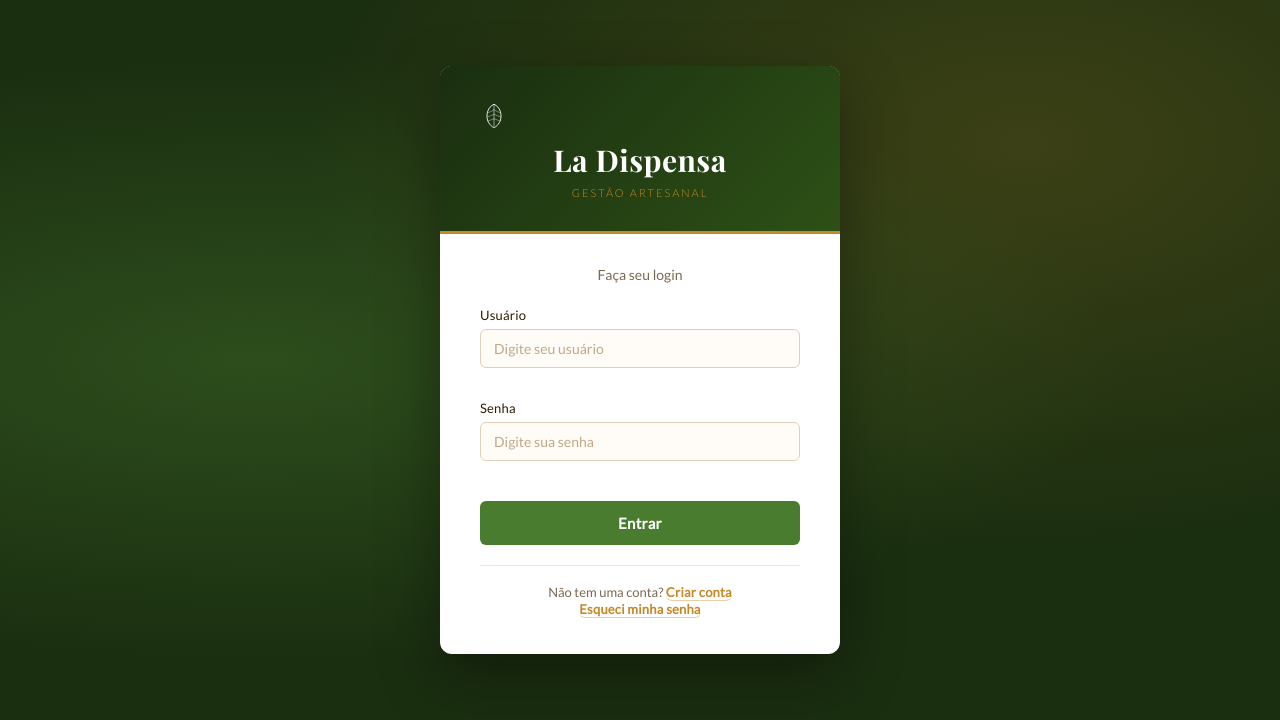
Scenario: Login › alterna para modo de cadastro ao clicar em "Criar conta"
The width and height of the screenshot is (1280, 720).
Click the button "Criar conta" at (699, 592), box [666,584,732,601]
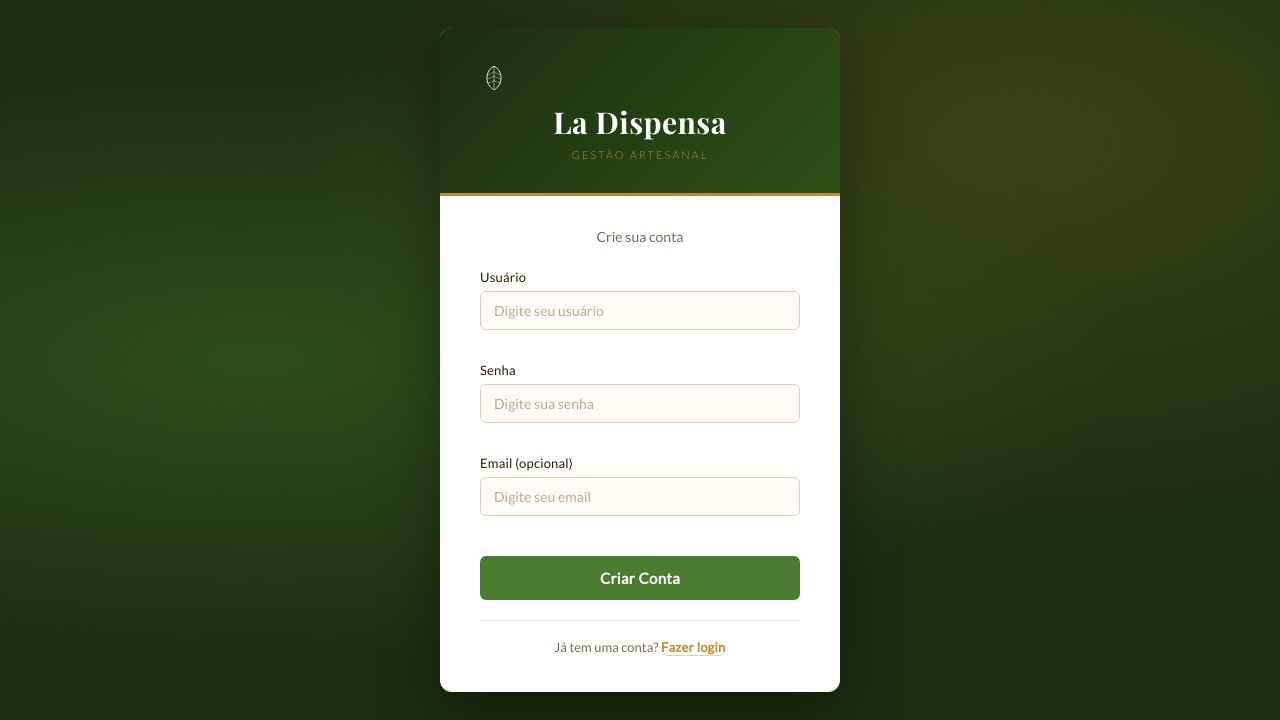
expect the text "Crie sua conta" is shown: met, box [596,228,684,245]
expect the field labelled "Email (opcional)" is shown: met, box [480,477,800,516]
